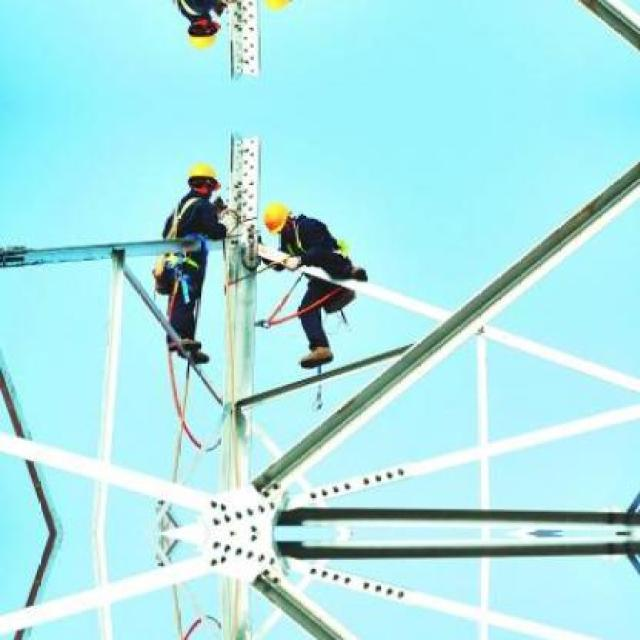helmet: (184, 158, 218, 198), (184, 14, 218, 54), (256, 197, 292, 233), (255, 0, 292, 15)
